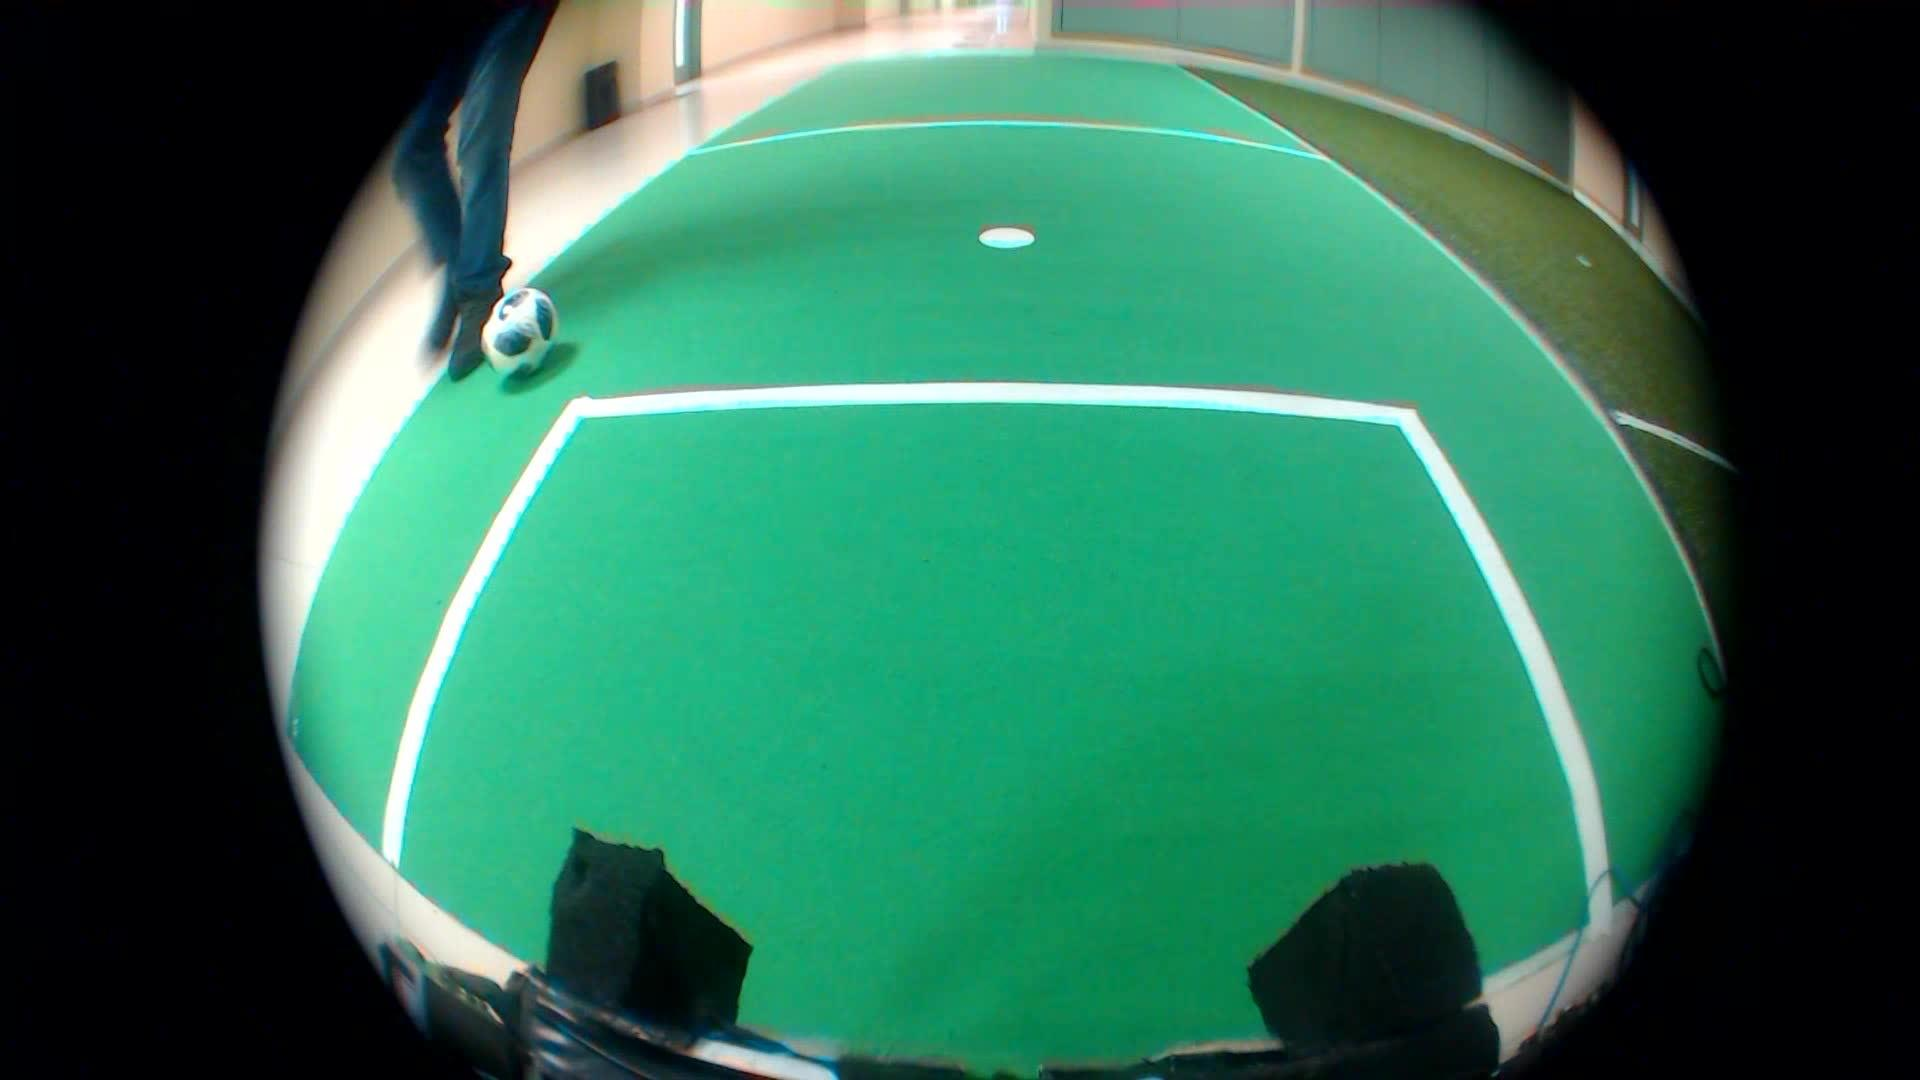ball: (469, 280, 576, 376)
